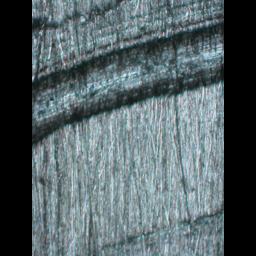d: (32, 0, 223, 153)
